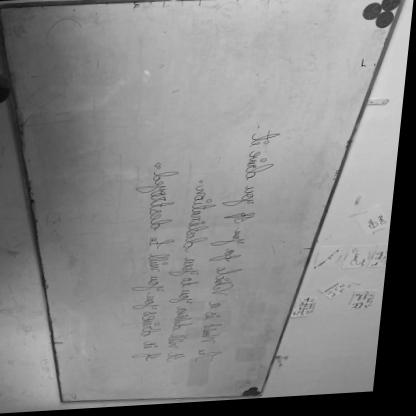Handwritten text: (178, 118, 295, 380), (158, 179, 226, 375), (131, 167, 190, 371)
